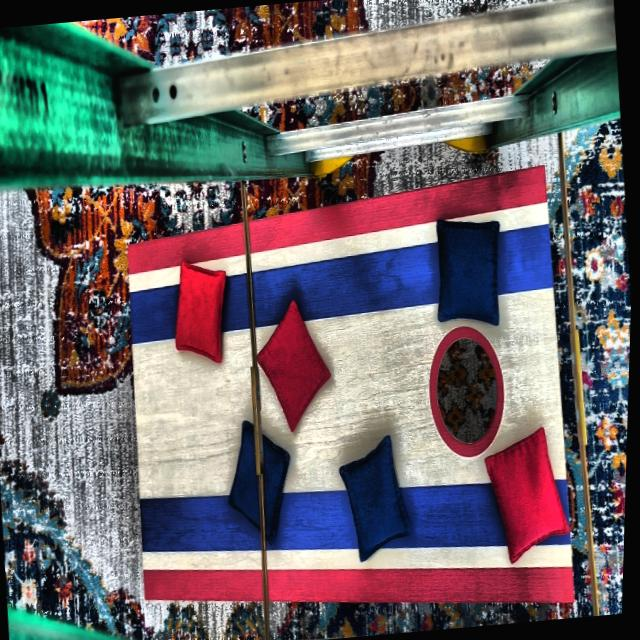blue-bean-bag: (335, 433, 417, 562), (224, 416, 300, 546), (430, 213, 509, 332)
board: (120, 207, 582, 598)
hole: (423, 321, 513, 462)
red-bean-bag: (481, 426, 575, 565), (250, 296, 339, 434), (170, 256, 234, 364)
